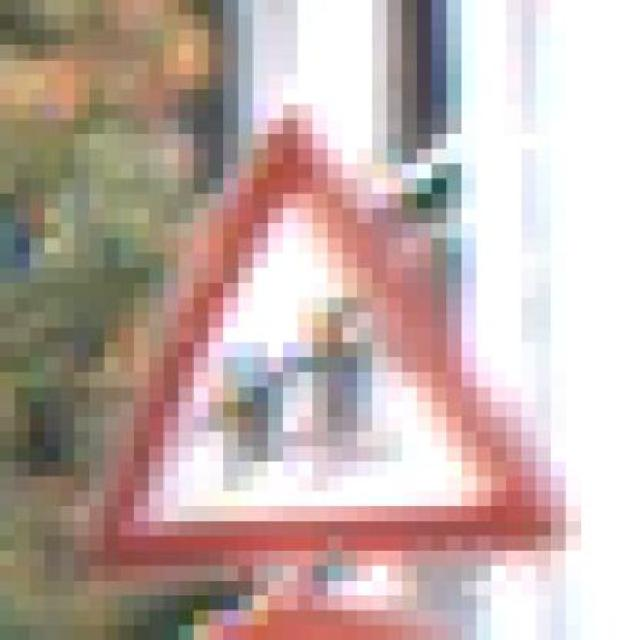Beware of children: (74, 89, 580, 580)
